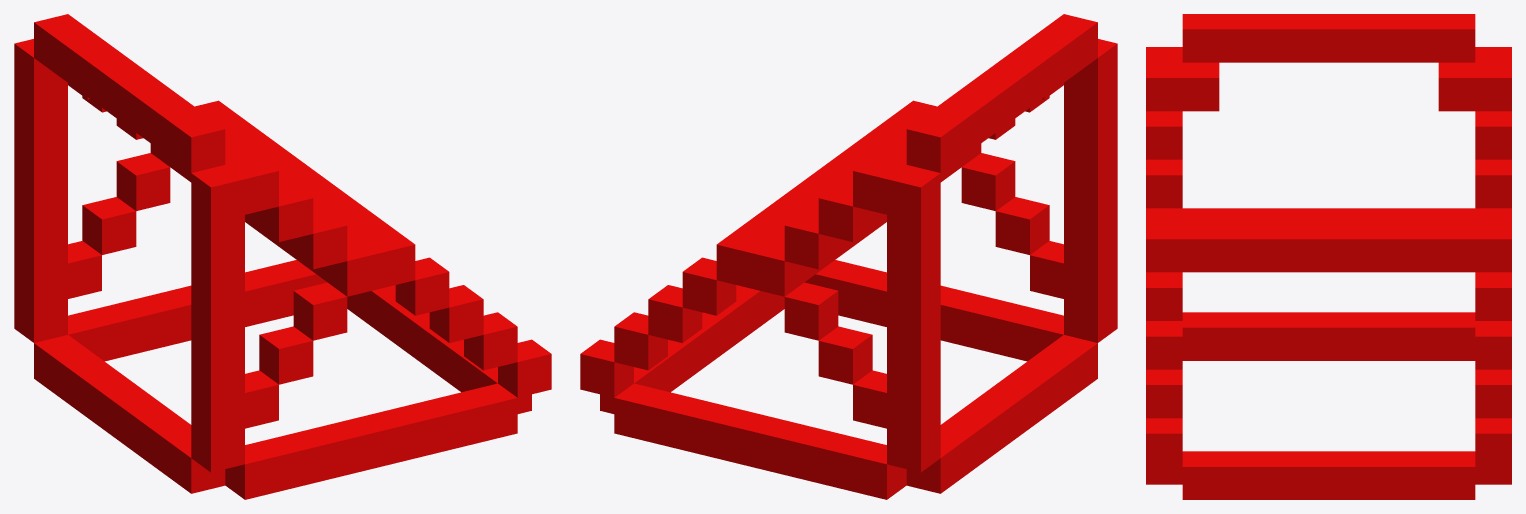
The model's file is Can_Not_Build _ Mine.obj.
3 renders of one model, left to right at view 1: azimuth 30°, elevation 25°; view 2: azimuth 150°, elevation 25°; view 3: azimuth 270°, elevation 25°, orthographic. The views are drawn at different scales.
Bounding box in the file's own units: 1 × 1 × 1.
1 material, 1 textured.
